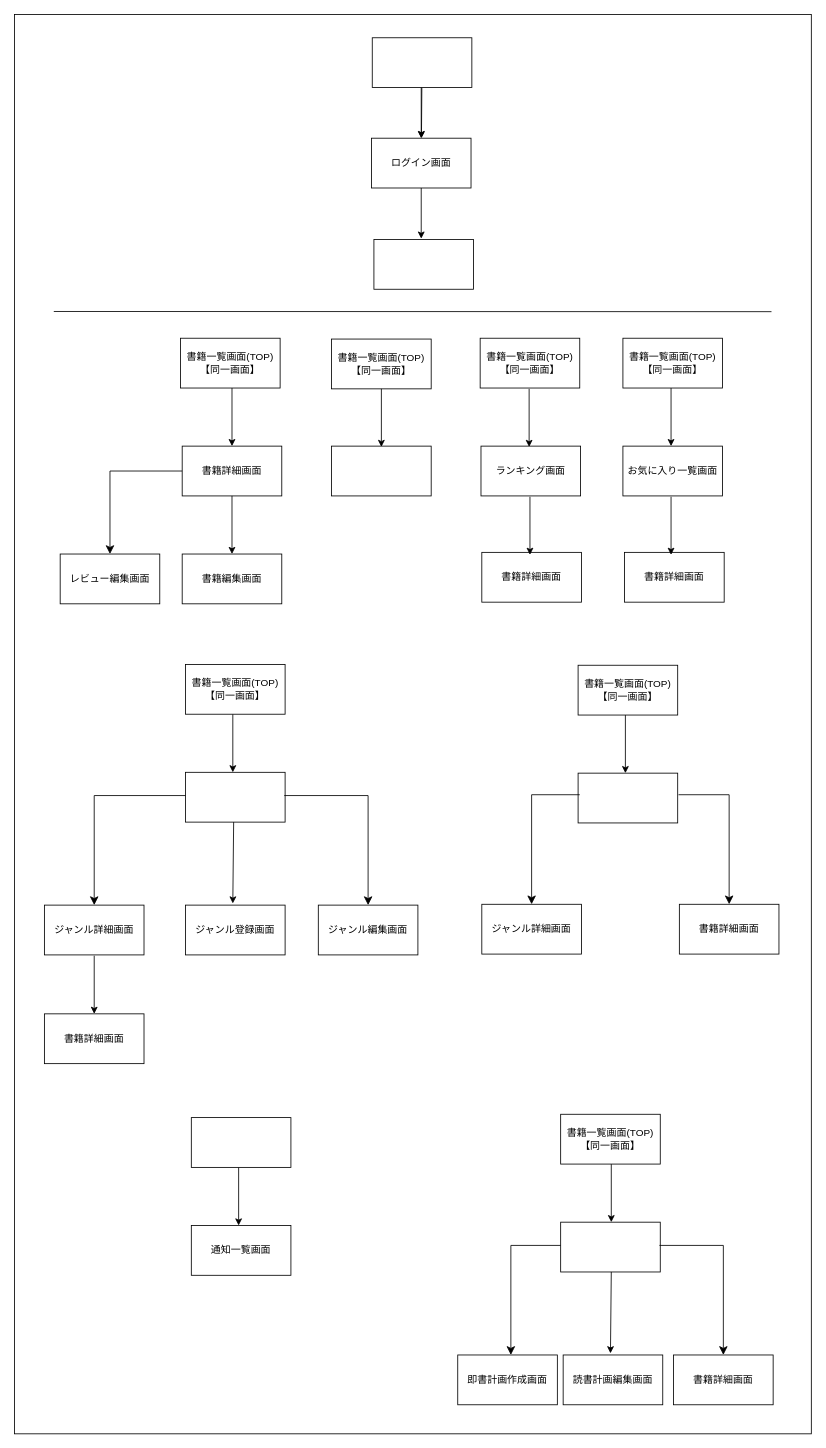
Some shapes in this 826 by 1448 pixel diagram are drawn without their labels. The shapes that lost their labels are listed below. From the top down, each one's centre as x and y in pixels, then its label:
At (x=421, y=62): "会員登録画面".
At (x=423, y=264): "書籍一覧画面(TOP)".
At (x=381, y=470): "書籍登録画面".
At (x=235, y=796): "ジャンル一覧画面".
At (x=627, y=797): "マイ読書レポート 画面".
At (x=240, y=1142): "書籍一覧画面(TOP) 【ヘッダー】".
At (x=610, y=1246): "読書計画一覧画面".
